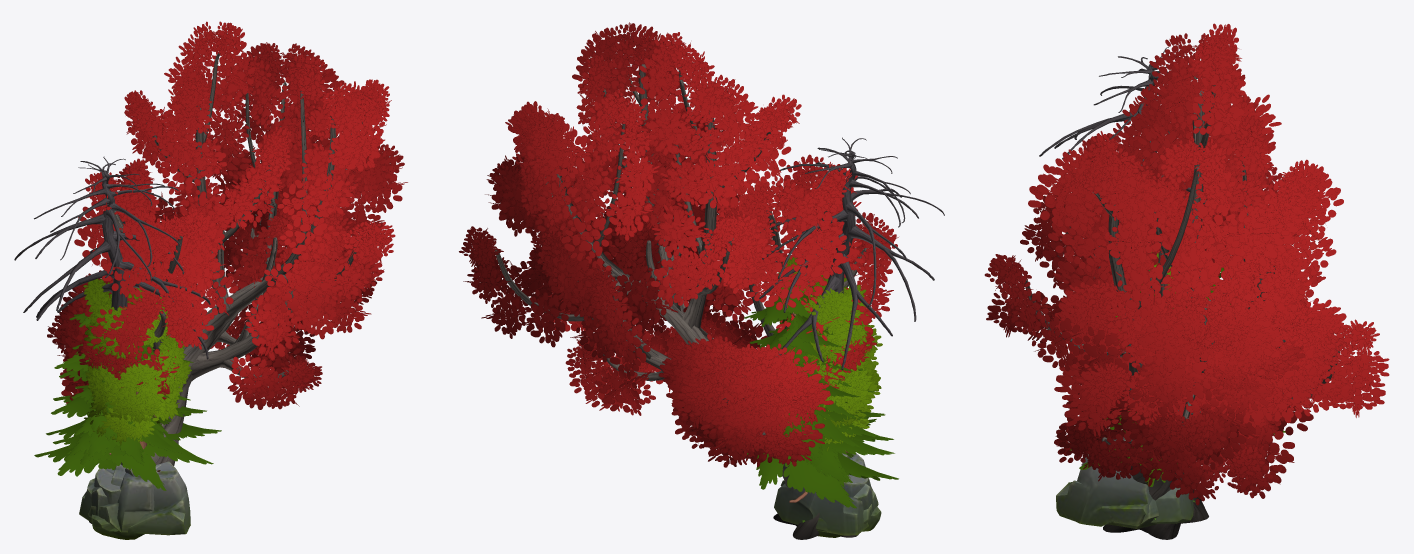
Rendered from nature-collection.glb.
3 views of the same model, side by side, from view 1: azimuth 30°, elevation 25°; view 2: azimuth 150°, elevation 25°; view 3: azimuth 270°, elevation 25° (orthographic). The views are drawn at different scales.
Visible parts, largest first — view 1: TwistedTree_1, CommonTree_3, Pine_5, DeadTree_3, Rock_Medium_3, CommonTree_5, Pine_1, Rock_Medium_1, Rock_Medium_2; view 2: TwistedTree_1, Pine_5, DeadTree_3, CommonTree_3, Rock_Medium_2, CommonTree_5, Pine_1, Rock_Medium_1; view 3: TwistedTree_1, Rock_Medium_3, DeadTree_3, Rock_Medium_2.
Boxes of the visible parts, bbox=[...] form: TwistedTree_1: bbox=[47, 21, 407, 523]; CommonTree_3: bbox=[83, 278, 191, 449]; Pine_5: bbox=[34, 292, 221, 490]; DeadTree_3: bbox=[14, 156, 210, 465]; Rock_Medium_3: bbox=[91, 461, 190, 539]; CommonTree_5: bbox=[84, 343, 182, 445]; Pine_1: bbox=[53, 342, 191, 471]; Rock_Medium_1: bbox=[88, 464, 160, 532]; Rock_Medium_2: bbox=[79, 468, 121, 522]; TwistedTree_1: bbox=[459, 22, 898, 539]; Pine_5: bbox=[744, 287, 898, 508]; DeadTree_3: bbox=[759, 137, 944, 369]; CommonTree_3: bbox=[775, 257, 882, 426]; Rock_Medium_2: bbox=[774, 475, 868, 535]; CommonTree_5: bbox=[814, 355, 880, 451]; Pine_1: bbox=[789, 348, 894, 502]; Rock_Medium_1: bbox=[815, 453, 878, 537]; TwistedTree_1: bbox=[984, 23, 1389, 539]; Rock_Medium_3: bbox=[1056, 454, 1152, 526]; DeadTree_3: bbox=[1039, 47, 1206, 532]; Rock_Medium_2: bbox=[1151, 487, 1193, 523].
Bounding box in the file's own units: 15.19 × 16.86 × 11.55.
Materials: 12 (12 with a texture image).
